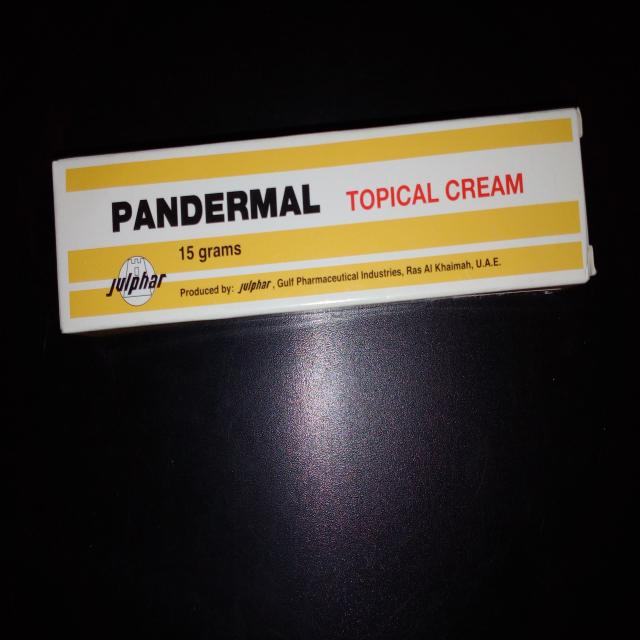Medicine: (52, 105, 596, 337)
